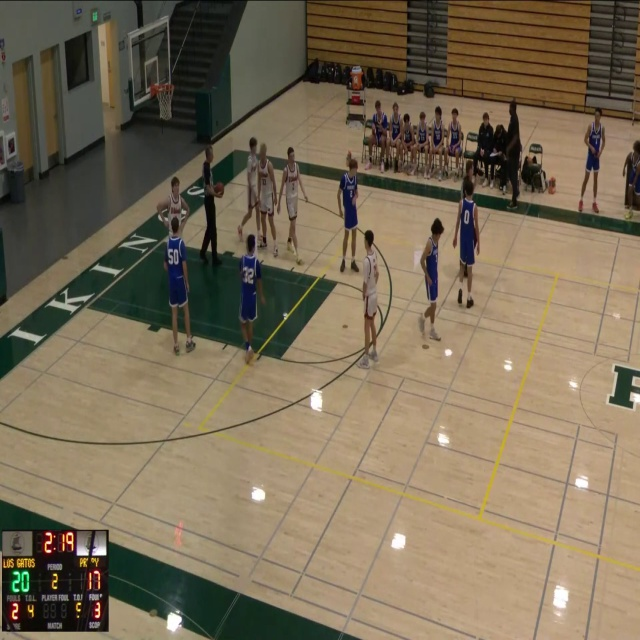Basketball: (213, 182, 224, 197)
